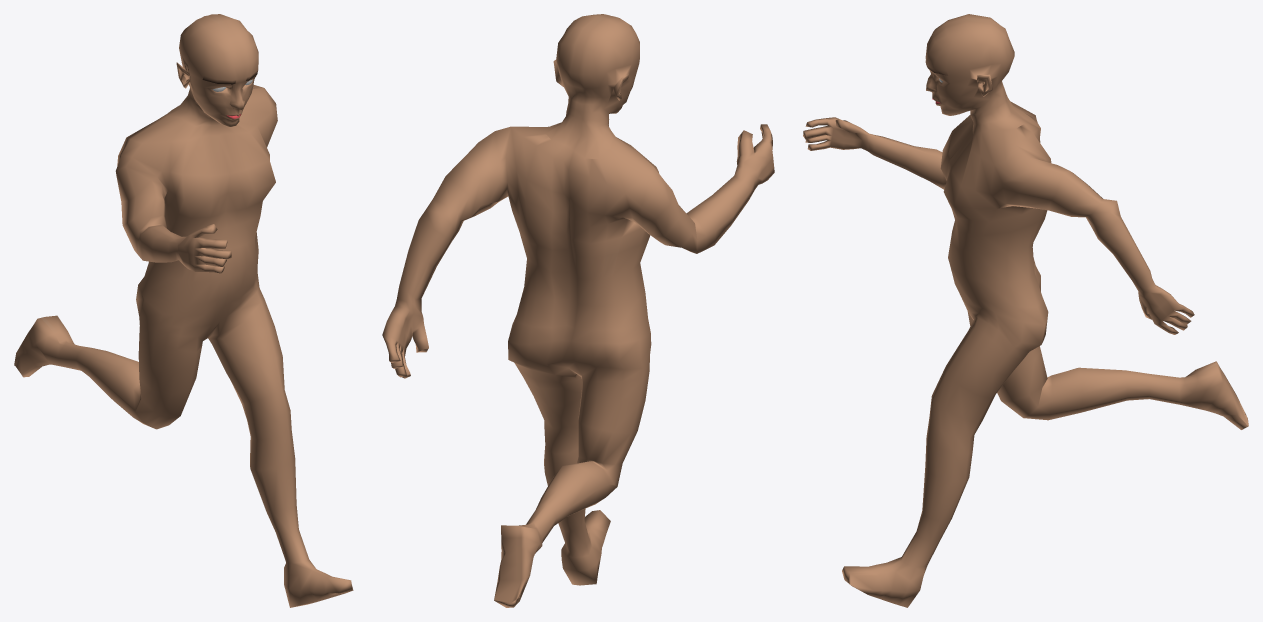
File: human_running_1.fbx
3 views of the same model, side by side, from view 1: azimuth 30°, elevation 25°; view 2: azimuth 150°, elevation 25°; view 3: azimuth 270°, elevation 25° (orthographic). The views are drawn at different scales.
Visible parts, largest first — view 1: body; view 2: body; view 3: body.
Boxes of the visible parts, left/top/right/bottom form: body: left=14, top=14, right=353, bottom=607; body: left=382, top=14, right=774, bottom=607; body: left=803, top=14, right=1248, bottom=607.
Size of the model in its own units: 216 by 600 by 432.
